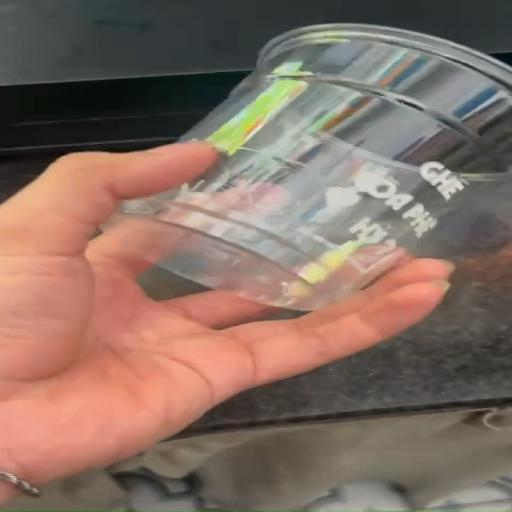ly_nhua: (119, 23, 511, 310)
